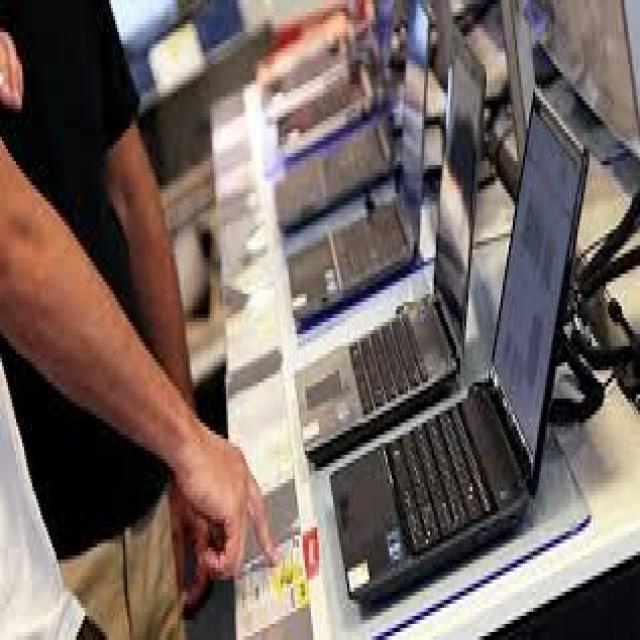others: (248, 4, 640, 632)
